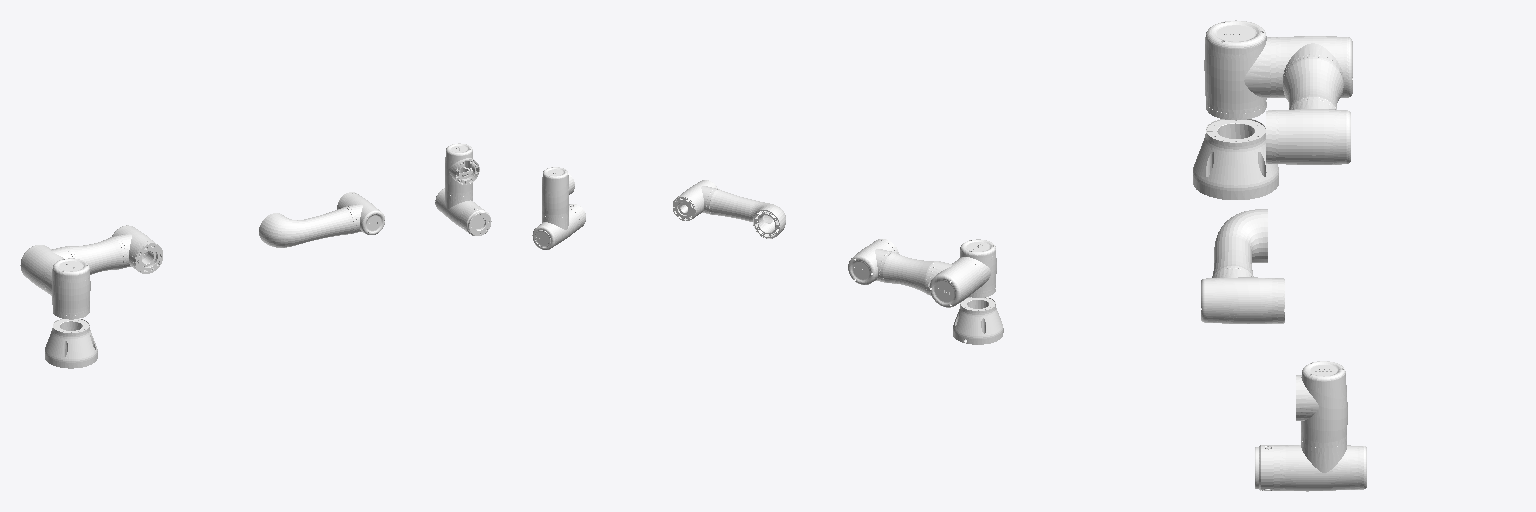
URDF robot description (Zu12):
<?xml version="1.0" encoding="utf-8"?>
<!-- This URDF was automatically created by SolidWorks to URDF Exporter! Originally created by [author] ([email redacted]) 
     Commit Version: 1.5.0-0-g9aa0fdb  Build Version: 1.5.7004.21443
     For more information, please see http://wiki.ros.org/sw_urdf_exporter -->
<robot
  name="Zu12">
  <link
    name="base_link">
    <inertial>
      <origin
        xyz="3.01643284384016E-05 -0.000681463570921656 -0.0225912828938222"
        rpy="0 0 0" />
      <mass
        value="3.20415038124604" />
      <inertia
        ixx="0.0102472789321389"
        ixy="-1.25211096927899E-05"
        ixz="-2.032215901439E-07"
        iyy="0.00775885552091728"
        iyz="4.74326539193397E-05"
        izz="0.0171648317580214" />
    </inertial>
    <visual>
      <origin
        xyz="0 0 0"
        rpy="0 0 0" />
      <geometry>
        <mesh
          filename="package://Zu12/meshes/base_link.STL" />
      </geometry>
      <material
        name="">
        <color
          rgba="1 1 1 1" />
      </material>
    </visual>
    <collision>
      <origin
        xyz="0 0 0"
        rpy="0 0 0" />
      <geometry>
        <mesh
          filename="package://Zu12/meshes/base_link.STL" />
      </geometry>
    </collision>
  </link>
  <link
    name="1">
    <inertial>
      <origin
        xyz="-0.000328431560018958 0.00406089906856803 -0.0250109305609668"
        rpy="0 0 0" />
      <mass
        value="7.7119852197604" />
      <inertia
        ixx="0.0404051529004393"
        ixy="-5.35916937084468E-05"
        ixz="8.56853276426298E-05"
        iyy="0.0404457306741405"
        iyz="-0.00039414179882763"
        izz="0.0343161527751278" />
    </inertial>
    <visual>
      <origin
        xyz="0 0 0"
        rpy="0 0 0" />
      <geometry>
        <mesh
          filename="package://Zu12/meshes/1.STL" />
      </geometry>
      <material
        name="">
        <color
          rgba="1 1 1 1" />
      </material>
    </visual>
    <collision>
      <origin
        xyz="0 0 0"
        rpy="0 0 0" />
      <geometry>
        <mesh
          filename="package://Zu12/meshes/1.STL" />
      </geometry>
    </collision>
  </link>
  <joint
    name="joint_1"
    type="continuous">
    <origin
      xyz="0 0 0.10265"
      rpy="0 0 0" />
    <parent
      link="base_link" />
    <child
      link="1" />
    <axis
      xyz="0 0 1" />
    <safety_controller
      k_velocity="0" />
  </joint>
  <link
    name="2">
    <inertial>
      <origin
        xyz="0.297499939118518 -1.25165127429216E-08 -0.166069989366573"
        rpy="0 0 0" />
      <mass
        value="24.8374871308426" />
      <inertia
        ixx="0.116456439495809"
        ixy="-0.00156765863153774"
        ixz="-3.42571922960543E-06"
        iyy="1.66880550591637"
        iyz="-1.42545474100985E-05"
        izz="1.65302926902866" />
    </inertial>
    <visual>
      <origin
        xyz="0 0 0"
        rpy="0 0 0" />
      <geometry>
        <mesh
          filename="package://Zu12/meshes/2.STL" />
      </geometry>
      <material
        name="">
        <color
          rgba="1 1 1 1" />
      </material>
    </visual>
    <collision>
      <origin
        xyz="0 0 0"
        rpy="0 0 0" />
      <geometry>
        <mesh
          filename="package://Zu12/meshes/2.STL" />
      </geometry>
    </collision>
  </link>
  <joint
    name="joint_2"
    type="continuous">
    <origin
      xyz="0 0 0"
      rpy="1.5708 0 0" />
    <parent
      link="1" />
    <child
      link="2" />
    <axis
      xyz="0 0 1" />
    <safety_controller
      k_velocity="0" />
  </joint>
  <link
    name="3">
    <inertial>
      <origin
        xyz="0.294233782543355 -4.72319252706188E-06 -0.0241861096678911"
        rpy="0 0 0" />
      <mass
        value="10.4896067072667" />
      <inertia
        ixx="0.0212898342592158"
        ixy="-1.15196860083347E-05"
        ixz="-0.00344346825692792"
        iyy="0.497633875998665"
        iyz="-6.35439617896331E-07"
        izz="0.498513225896089" />
    </inertial>
    <visual>
      <origin
        xyz="0 0 0"
        rpy="0 0 0" />
      <geometry>
        <mesh
          filename="package://Zu12/meshes/3.STL" />
      </geometry>
      <material
        name="">
        <color
          rgba="1 1 1 1" />
      </material>
    </visual>
    <collision>
      <origin
        xyz="0 0 0"
        rpy="0 0 0" />
      <geometry>
        <mesh
          filename="package://Zu12/meshes/3.STL" />
      </geometry>
    </collision>
  </link>
  <joint
    name="joint_3"
    type="continuous">
    <origin
      xyz="0.595 0 0"
      rpy="0 0 0" />
    <parent
      link="2" />
    <child
      link="3" />
    <axis
      xyz="0 0 1" />
    <safety_controller
      k_velocity="0" />
  </joint>
  <link
    name="4">
    <inertial>
      <origin
        xyz="4.22017696188881E-06 -0.0150343523848632 0.00216593552372366"
        rpy="0 0 0" />
      <mass
        value="2.33226523312749" />
      <inertia
        ixx="0.00458464465961989"
        ixy="2.63659533420518E-06"
        ixz="-1.52605286509264E-05"
        iyy="0.00363879515047717"
        iyz="-3.19585101806877E-05"
        izz="0.00455871160423887" />
    </inertial>
    <visual>
      <origin
        xyz="0 0 0"
        rpy="0 0 0" />
      <geometry>
        <mesh
          filename="package://Zu12/meshes/4.STL" />
      </geometry>
      <material
        name="">
        <color
          rgba="1 1 1 1" />
      </material>
    </visual>
    <collision>
      <origin
        xyz="0 0 0"
        rpy="0 0 0" />
      <geometry>
        <mesh
          filename="package://Zu12/meshes/4.STL" />
      </geometry>
    </collision>
  </link>
  <joint
    name="joint_4"
    type="continuous">
    <origin
      xyz="0.5715 0 -0.1315"
      rpy="0 0 0" />
    <parent
      link="3" />
    <child
      link="4" />
    <axis
      xyz="0 0 1" />
    <safety_controller
      k_velocity="0" />
  </joint>
  <link
    name="5">
    <inertial>
      <origin
        xyz="3.86594587120648E-06 0.00426530078104992 -0.00184283112443297"
        rpy="0 0 0" />
      <mass
        value="2.66165045410319" />
      <inertia
        ixx="0.00702353102292446"
        ixy="-2.72522678679305E-06"
        ixz="1.52464540194323E-05"
        iyy="0.00413469714863856"
        iyz="2.81695088352211E-05"
        izz="0.00699581168456812" />
    </inertial>
    <visual>
      <origin
        xyz="0 0 0"
        rpy="0 0 0" />
      <geometry>
        <mesh
          filename="package://Zu12/meshes/5.STL" />
      </geometry>
      <material
        name="">
        <color
          rgba="1 1 1 1" />
      </material>
    </visual>
    <collision>
      <origin
        xyz="0 0 0"
        rpy="0 0 0" />
      <geometry>
        <mesh
          filename="package://Zu12/meshes/5.STL" />
      </geometry>
    </collision>
  </link>
  <joint
    name="joint_5"
    type="continuous">
    <origin
      xyz="0 -0.115 0"
      rpy="1.5708 0 0" />
    <parent
      link="4" />
    <child
      link="5" />
    <axis
      xyz="0 0 1" />
    <safety_controller
      k_velocity="0" />
  </joint>
  <link
    name="6">
    <inertial>
      <origin
        xyz="-0.000786084663781494 3.88801034911165E-05 -0.0163246941858815"
        rpy="0 0 0" />
      <mass
        value="0.862674261524961" />
      <inertia
        ixx="0.000597975009893646"
        ixy="-2.41634474044304E-05"
        ixz="-6.20059067536115E-06"
        iyy="0.000647976470675928"
        iyz="-6.92746756534325E-07"
        izz="0.00106463342891045" />
    </inertial>
    <visual>
      <origin
        xyz="0 0 0"
        rpy="0 0 0" />
      <geometry>
        <mesh
          filename="package://Zu12/meshes/6.STL" />
      </geometry>
      <material
        name="">
        <color
          rgba="1 1 1 1" />
      </material>
    </visual>
    <collision>
      <origin
        xyz="0 0 0"
        rpy="0 0 0" />
      <geometry>
        <mesh
          filename="package://Zu12/meshes/6.STL" />
      </geometry>
    </collision>
  </link>
  <joint
    name="joint_6"
    type="continuous">
    <origin
      xyz="0 0.1035 0"
      rpy="-1.5708 0 0" />
    <parent
      link="5" />
    <child
      link="6" />
    <axis
      xyz="0 0 1" />
    <safety_controller
      k_velocity="0" />
  </joint>
</robot>

--- Facts derived from the render (not from the file) ---
The picture shows the robot from 3 angles, left to right: view 1: azimuth 30°, elevation 25°; view 2: azimuth 150°, elevation 25°; view 3: azimuth 270°, elevation 25°; orthographic projection.
Model Zu12 with 7 links and 6 joints (6 continuous), rooted at base_link, posed every joint at zero.
Visible links, largest first — view 1: 2, 3, 1, base_link, 4, 5, 6; view 2: 2, 3, base_link, 4, 1, 5; view 3: 2, 3, 1, base_link, 4, 5, 6.
Boxes of the visible links, left/top/right/bottom form: 2: left=20, top=225, right=162, bottom=293; 3: left=259, top=192, right=384, bottom=247; 1: left=45, top=258, right=90, bottom=319; base_link: left=45, top=318, right=97, bottom=368; 4: left=445, top=143, right=479, bottom=199; 5: left=435, top=188, right=480, bottom=228; 6: left=462, top=207, right=491, bottom=235; 2: left=848, top=239, right=983, bottom=307; 3: left=673, top=180, right=785, bottom=238; base_link: left=953, top=297, right=1003, bottom=344; 4: left=542, top=167, right=574, bottom=221; 1: left=959, top=239, right=996, bottom=297; 5: left=532, top=207, right=581, bottom=249; 2: left=1266, top=36, right=1352, bottom=164; 3: left=1201, top=209, right=1284, bottom=323; 1: left=1204, top=20, right=1269, bottom=119; base_link: left=1193, top=119, right=1278, bottom=199; 4: left=1296, top=361, right=1347, bottom=453; 5: left=1273, top=444, right=1366, bottom=491; 6: left=1255, top=445, right=1273, bottom=490.
Size in the robot's own frame: 1.27 by 0.26 by 0.2477 metres.
7 mesh visuals loaded from 7 distinct referenced files (7 binary STL).
